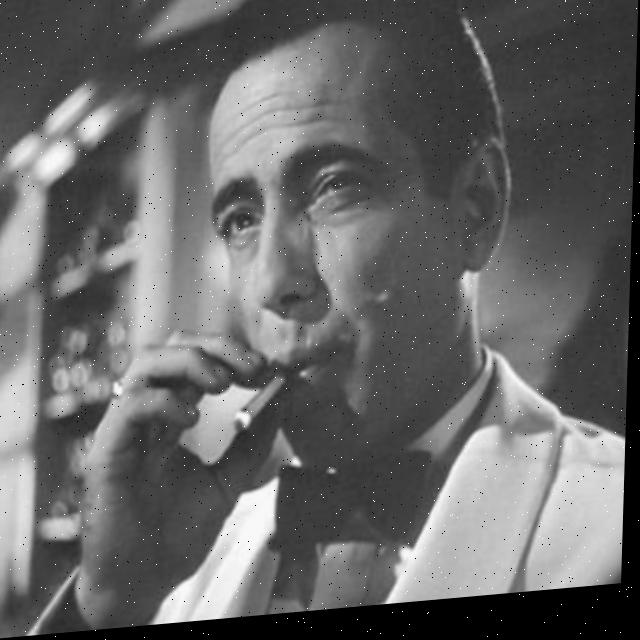cigarette: (235, 374, 289, 442)
